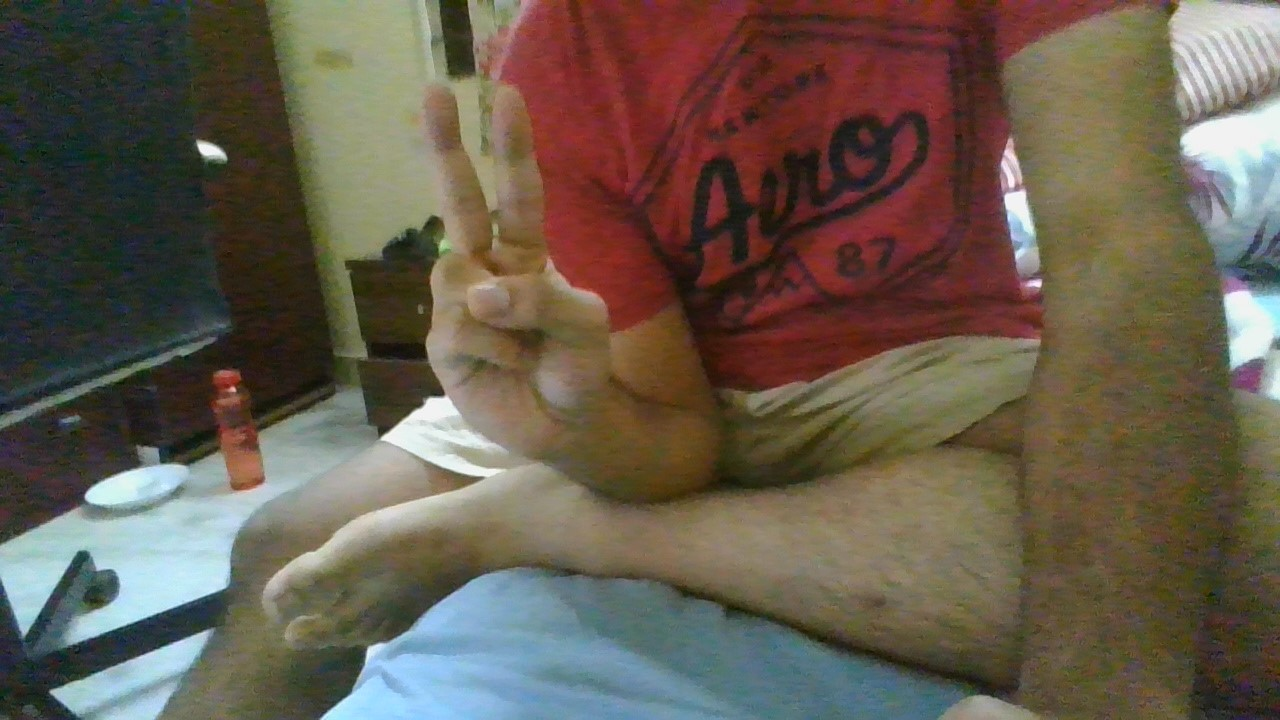v: (411, 75, 623, 463)
